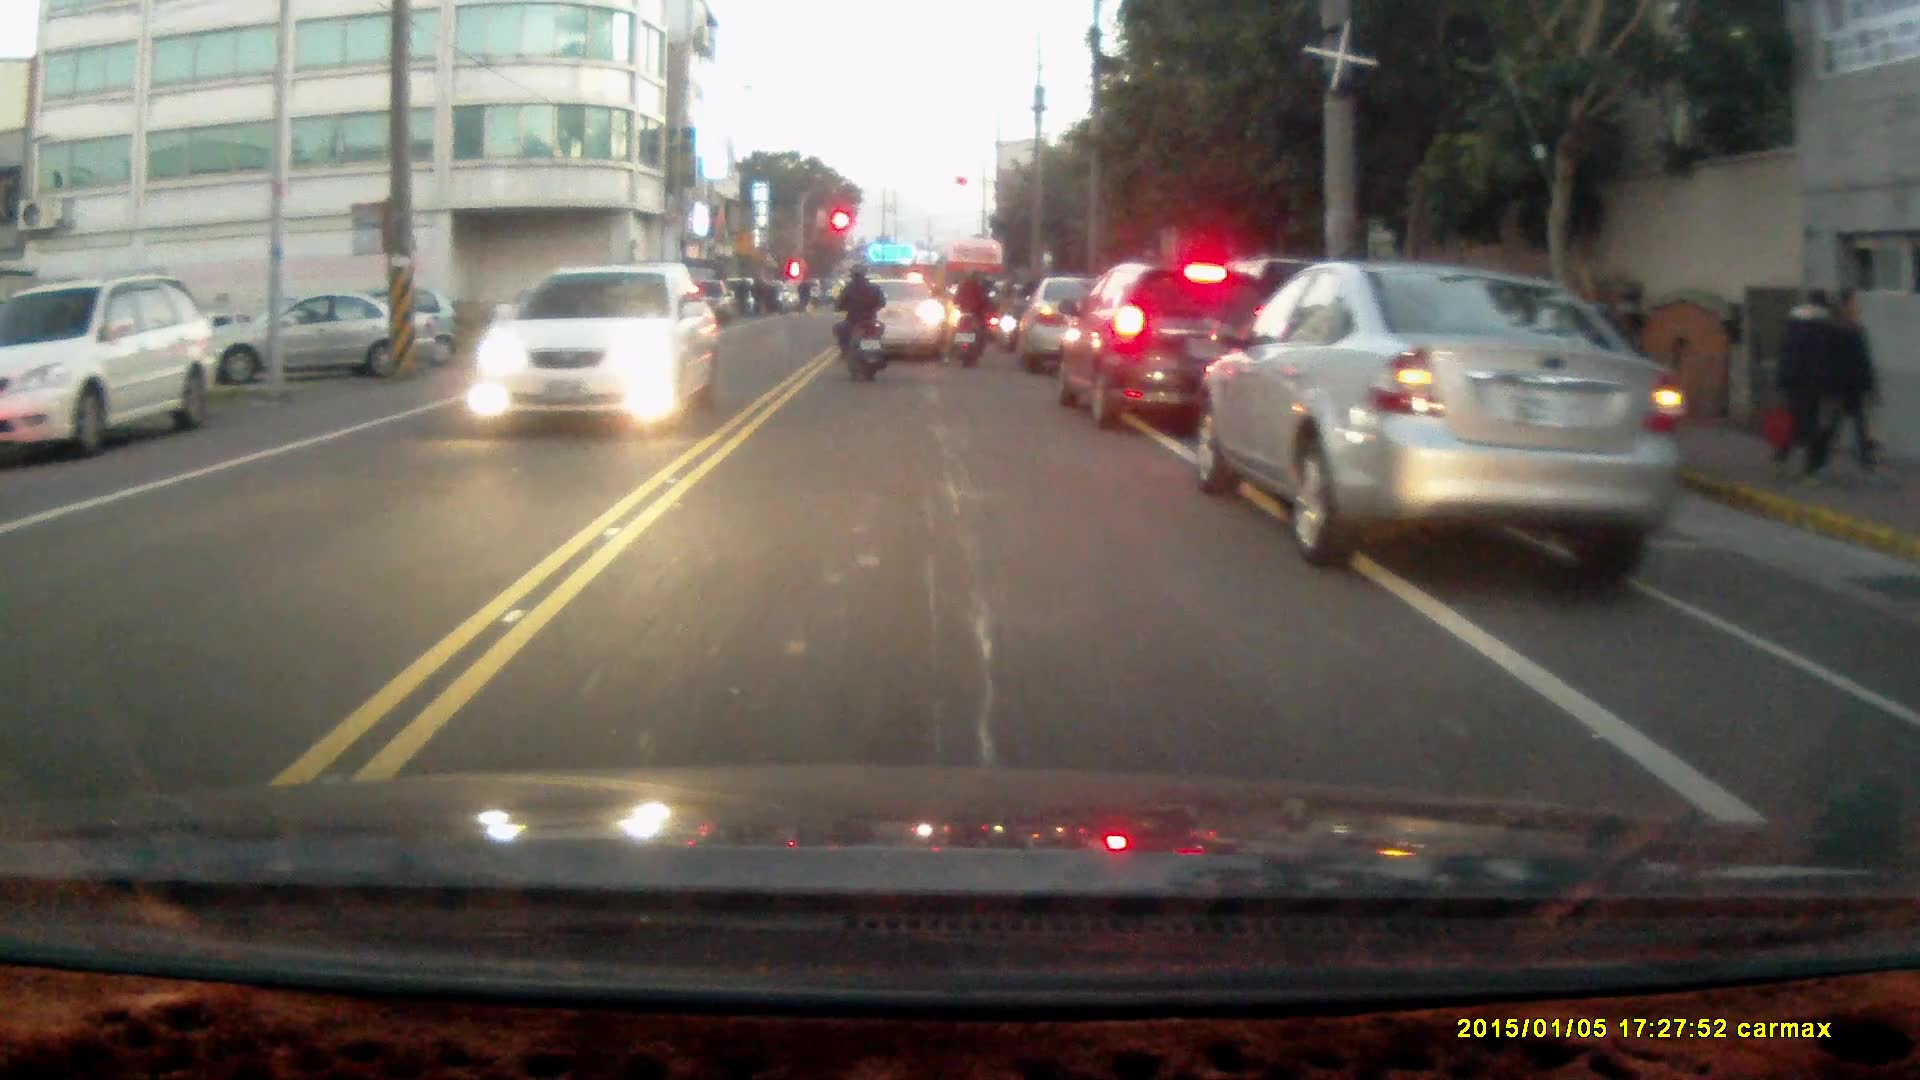pedestrian: (1774, 285, 1835, 493), (1823, 293, 1879, 484)
rider: (831, 266, 887, 387), (947, 269, 998, 369)
vehicle: (1192, 262, 1691, 586), (472, 266, 716, 436), (2, 273, 221, 462), (1058, 270, 1282, 442), (215, 295, 435, 382), (1016, 275, 1140, 384), (841, 288, 953, 372)
